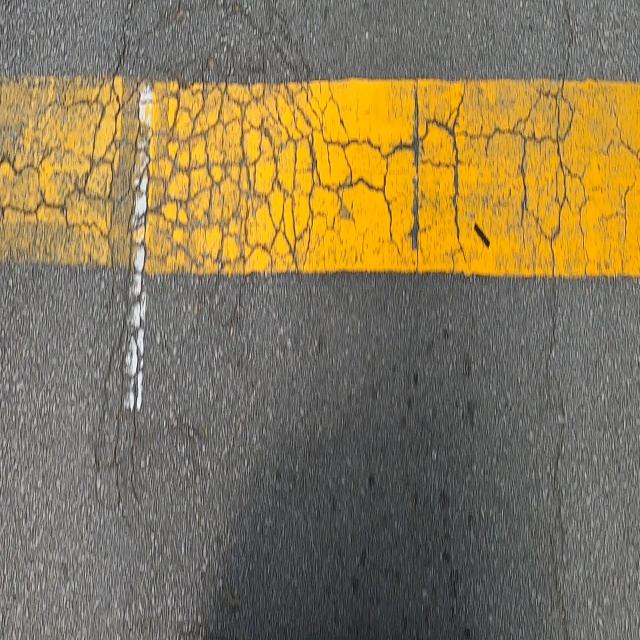Retak-Buaya: (0, 0, 639, 524)
Retak-Memanjang: (545, 285, 570, 572), (545, 522, 575, 640), (558, 1, 578, 87)
